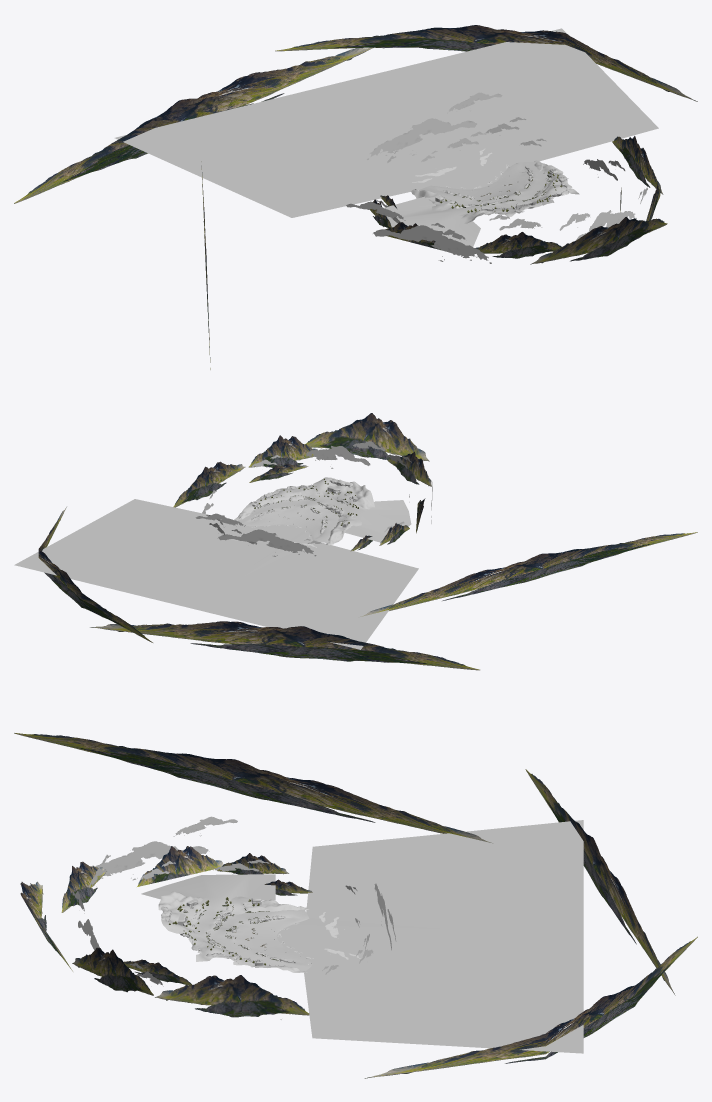
Rendered from Map02.fbx.
3 views of the same model, one above another, from view 1: azimuth 30°, elevation 25°; view 2: azimuth 150°, elevation 25°; view 3: azimuth 270°, elevation 25° (orthographic). The views are drawn at different scales.
Parts seen in each view (by area): view 1: Water, Trans_Hill.001, Assets_11, Trans_Hill, Trans_Hill.002, Cloud_Trans_1, Cloud_Trans_7, Assets_31, Cloud_Trans_9; view 2: Water, Trans_Hill.001, Trans_Hill, Assets_11, Assets_31, Trans_Hill.002, Cloud_Trans_7, Cloud_Trans_9, Assets_2; view 3: Water, Trans_Hill.001, Assets_11, Trans_Hill, Trans_Hill.002, Assets_31, Cloud_Trans_1, Assets_2.
Part boxes in pixels (x1,y1,x2,y2): Water: [114, 28, 658, 217]; Trans_Hill.001: [14, 25, 697, 369]; Assets_11: [384, 162, 551, 246]; Trans_Hill: [530, 136, 667, 264]; Trans_Hill.002: [369, 195, 561, 258]; Cloud_Trans_1: [346, 201, 491, 263]; Cloud_Trans_7: [367, 92, 502, 159]; Assets_31: [461, 160, 579, 223]; Cloud_Trans_9: [559, 210, 636, 240]; Water: [14, 499, 418, 649]; Trans_Hill.001: [38, 507, 697, 670]; Trans_Hill: [173, 413, 429, 507]; Assets_11: [237, 494, 411, 542]; Assets_31: [234, 477, 374, 520]; Trans_Hill.002: [350, 452, 431, 551]; Cloud_Trans_7: [195, 513, 316, 556]; Cloud_Trans_9: [304, 441, 385, 468]; Assets_2: [326, 513, 361, 545]; Water: [276, 820, 583, 1053]; Trans_Hill.001: [14, 733, 697, 1078]; Assets_11: [141, 874, 312, 971]; Trans_Hill: [20, 881, 309, 1017]; Trans_Hill.002: [61, 846, 312, 912]; Assets_31: [158, 891, 307, 972]; Cloud_Trans_1: [95, 816, 237, 880]; Assets_2: [225, 896, 309, 915].
Size of what is drawn, in the model's own units: 1453 by 172 by 1235.
